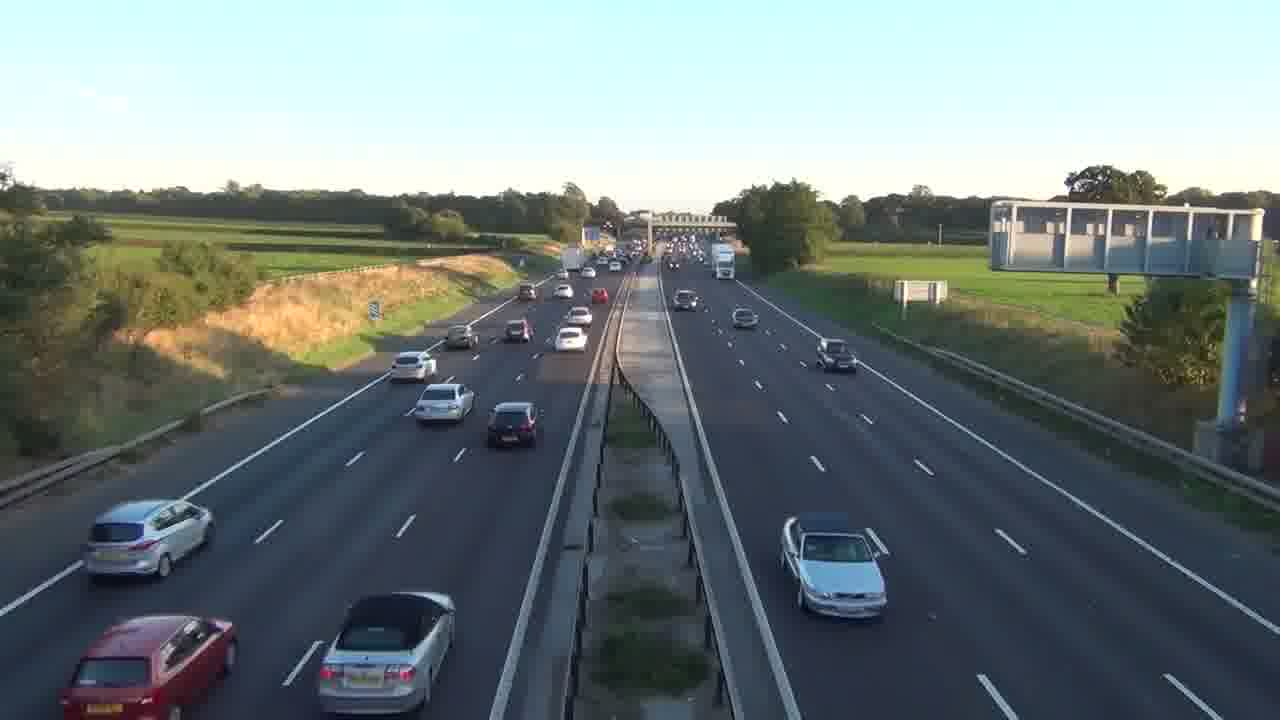car: (316, 590, 457, 715), (779, 511, 893, 620), (82, 497, 215, 581), (413, 381, 476, 423), (486, 400, 539, 449), (388, 351, 436, 382), (731, 306, 759, 329)
truck: (56, 612, 239, 718), (713, 242, 737, 280), (503, 318, 533, 343)
